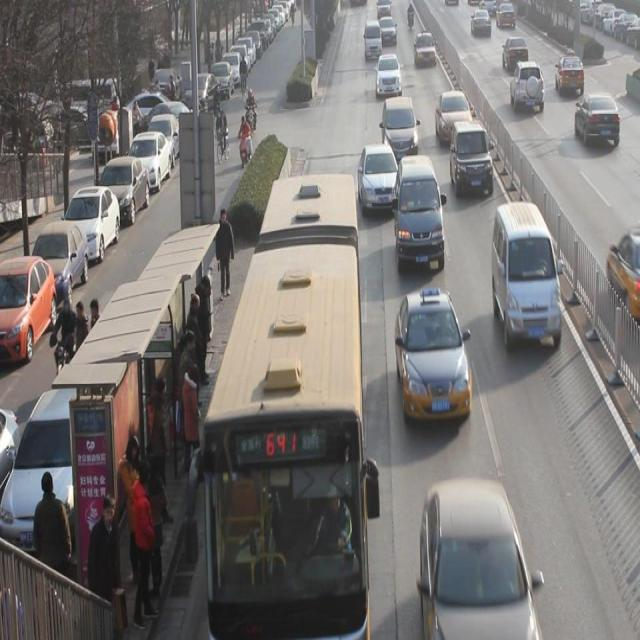car: (421, 482, 541, 640), (395, 290, 472, 424), (450, 121, 494, 199), (357, 144, 400, 217), (575, 93, 621, 148), (381, 97, 418, 157), (435, 93, 472, 149), (510, 62, 545, 113), (554, 53, 584, 96), (376, 54, 402, 97), (502, 38, 529, 70), (414, 33, 437, 69), (470, 10, 492, 39), (496, 1, 516, 29), (378, 17, 397, 46)
truck: (492, 204, 563, 350), (394, 156, 445, 272), (364, 22, 382, 60)
van: (206, 179, 365, 629)
